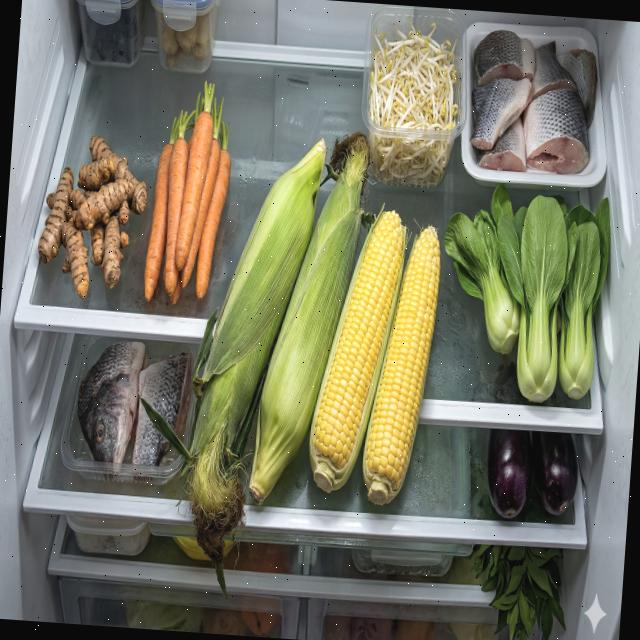bean_sprouts: (362, 12, 464, 190)
carrot: (142, 108, 235, 308)
corn: (177, 117, 451, 614)
curry_leaves: (465, 540, 572, 640)
eggplant: (482, 428, 580, 524)
fish: (466, 26, 602, 175), (71, 336, 193, 484)
pakchoy: (433, 180, 614, 407)
turmeric: (34, 131, 152, 304)
